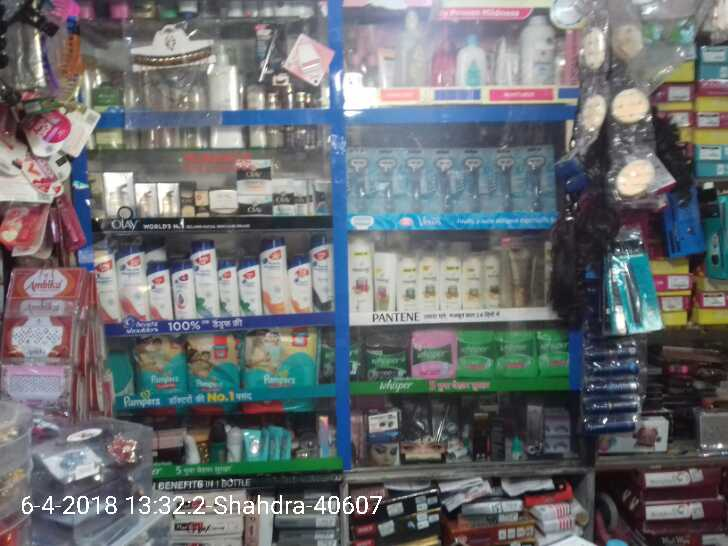venus: (523, 143, 557, 213), (346, 146, 377, 217), (465, 145, 496, 215), (434, 146, 465, 215), (405, 146, 434, 216), (377, 146, 405, 216), (496, 145, 523, 213)
